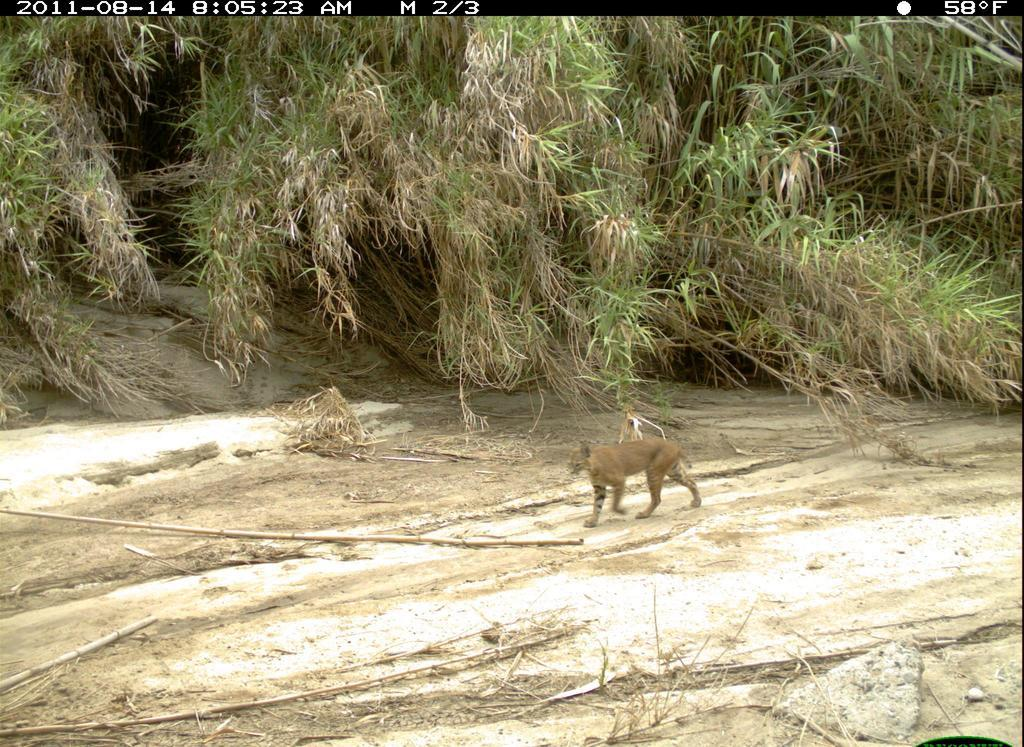bobcat: (565, 431, 716, 536)
